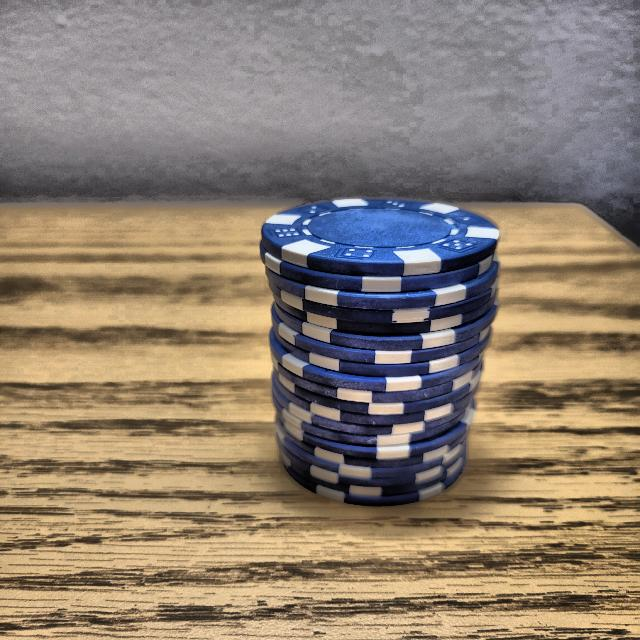Chip: (234, 185, 520, 517)
